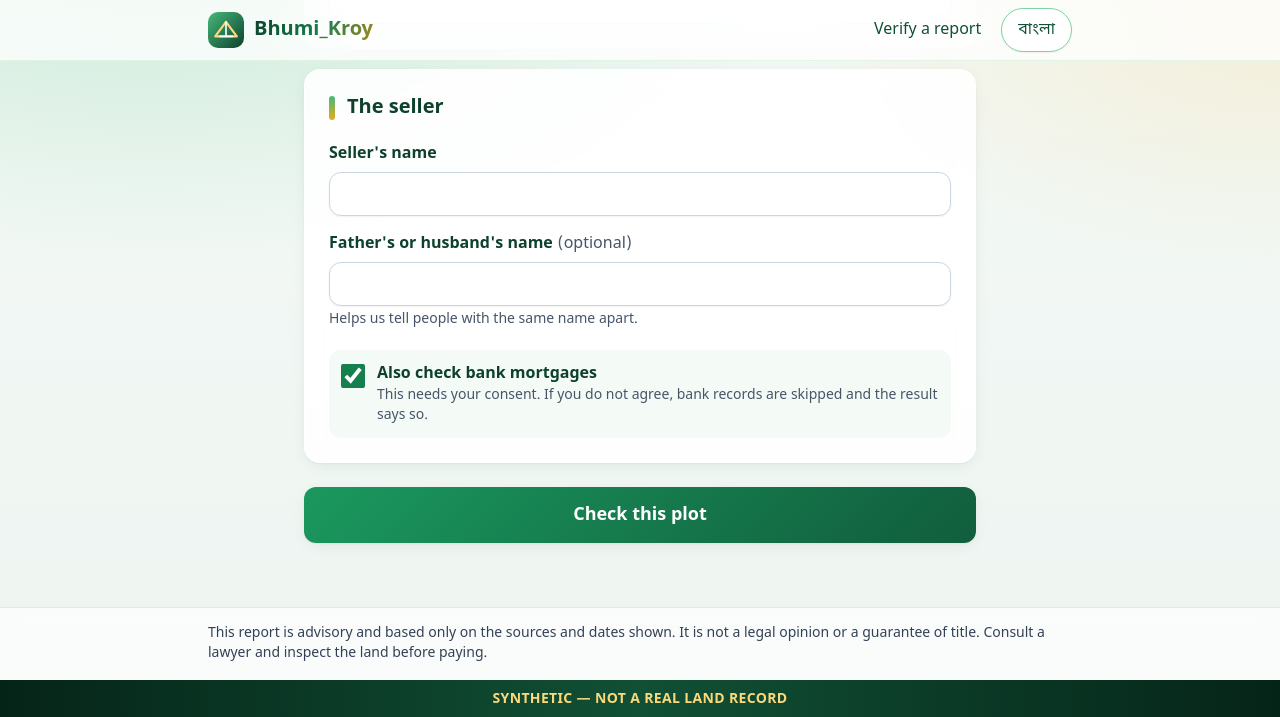
Scenario: full flow with mock data › the form shows field errors and focuses the summary when required fields are empty
(page scrolled)
Step 1. Click the button "Check this plot" → (640, 515), box top-left (304, 487), bottom-right (976, 543)
(page scrolled)
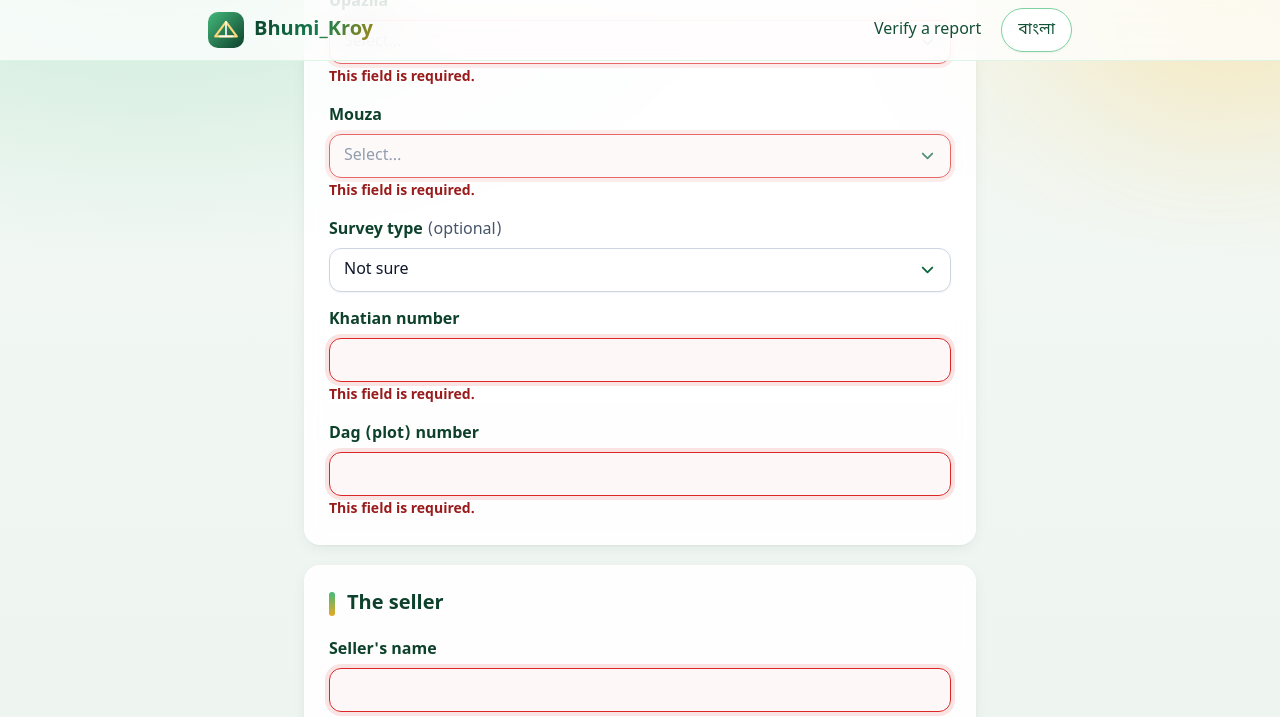
Expected: the text "This field is required." is shown 6 times
